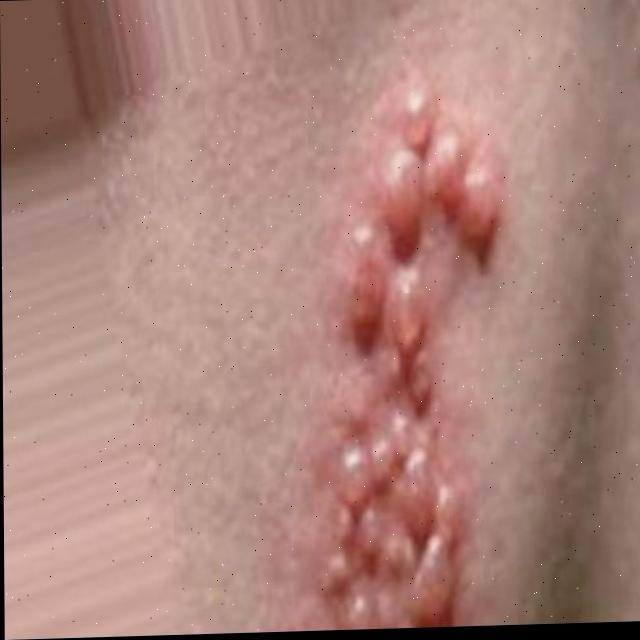Shingles: (297, 83, 523, 629)
